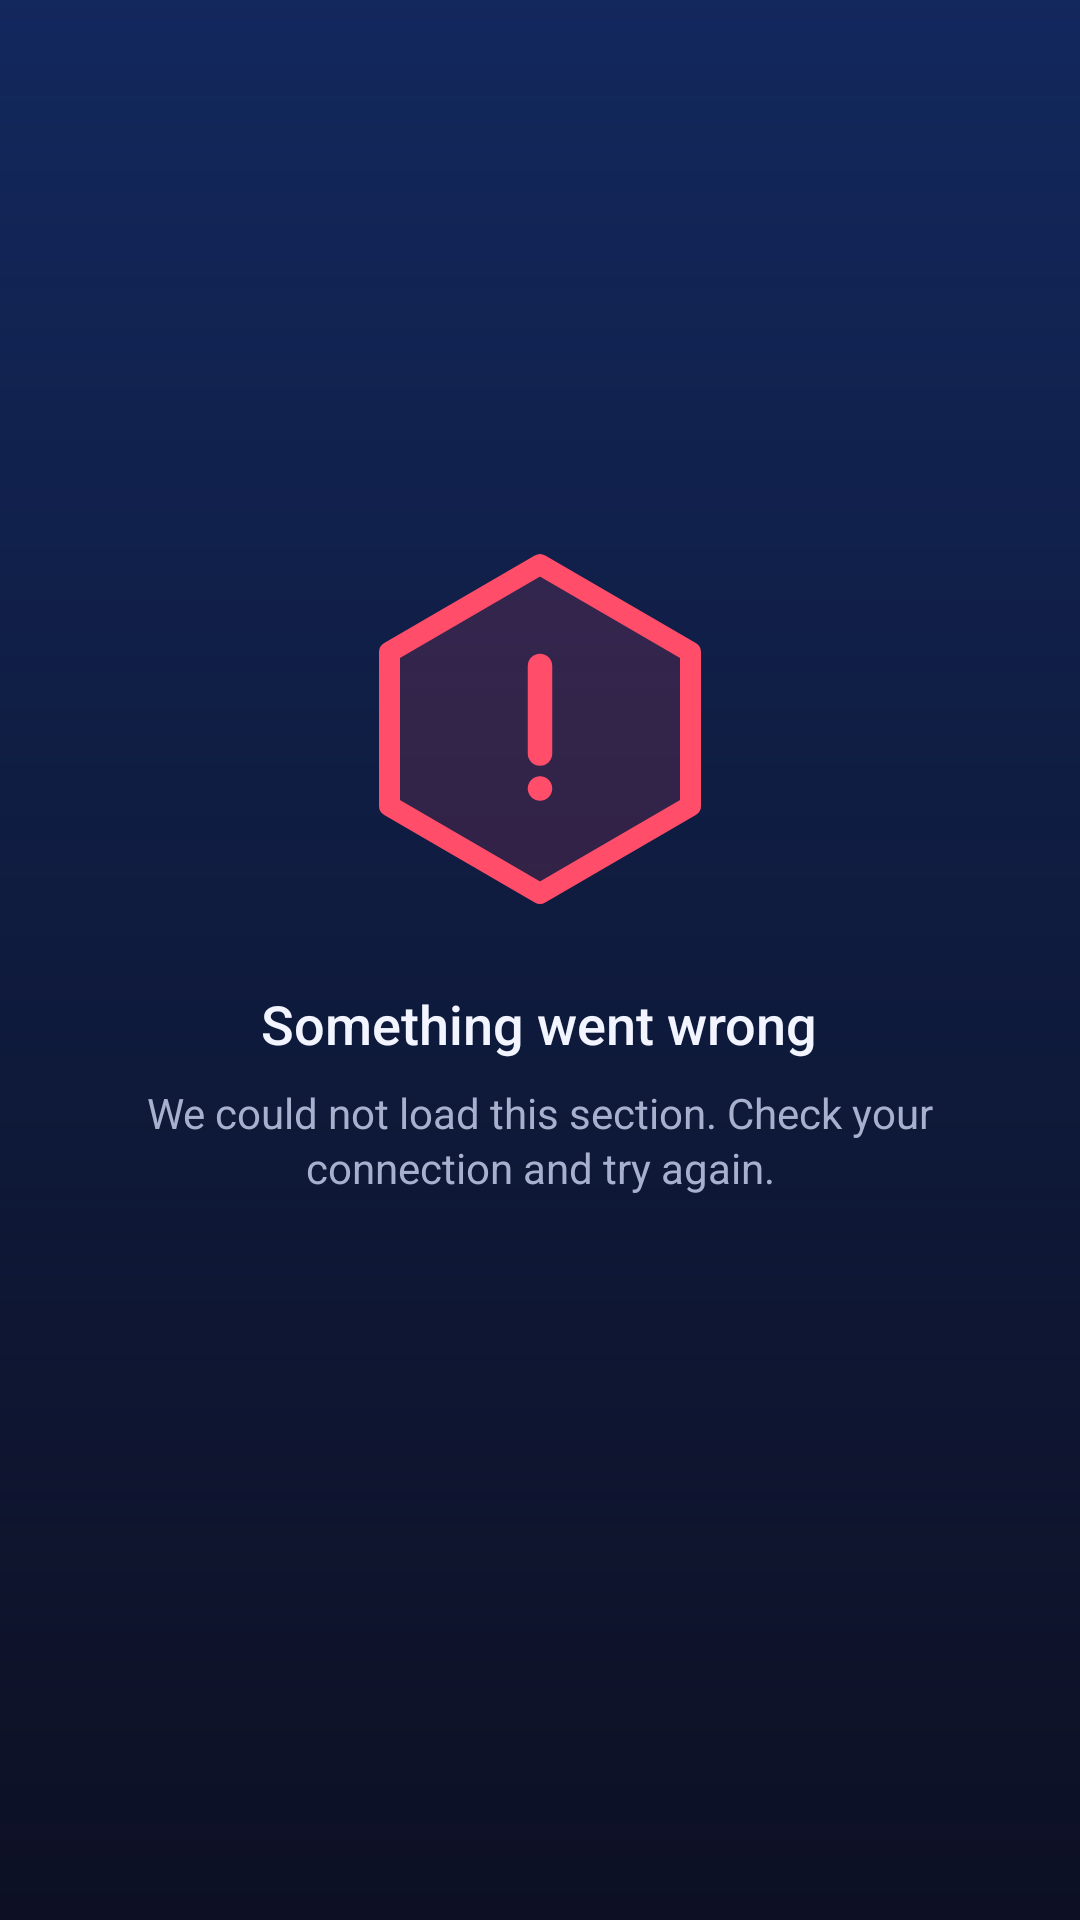

Icon click points for this 1080×1920 phone screenshot, format (x,y):
Error illustration: (540,729)
